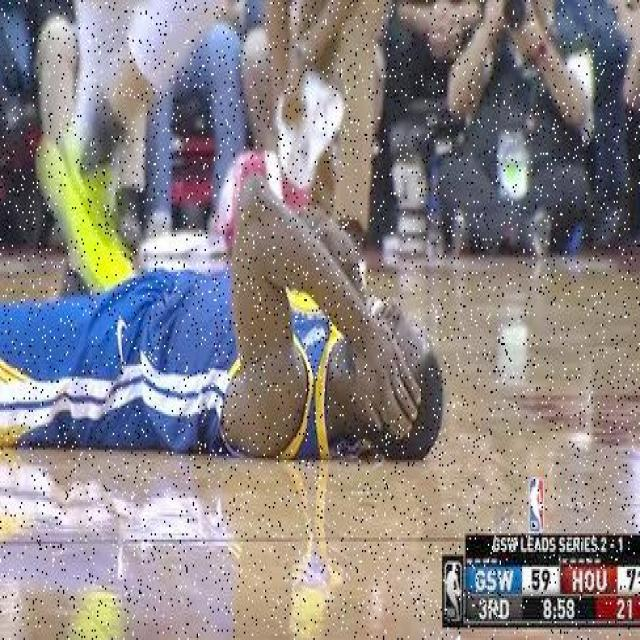fall: (0, 209, 446, 462)
